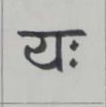anusvara: (71, 41, 78, 50)
